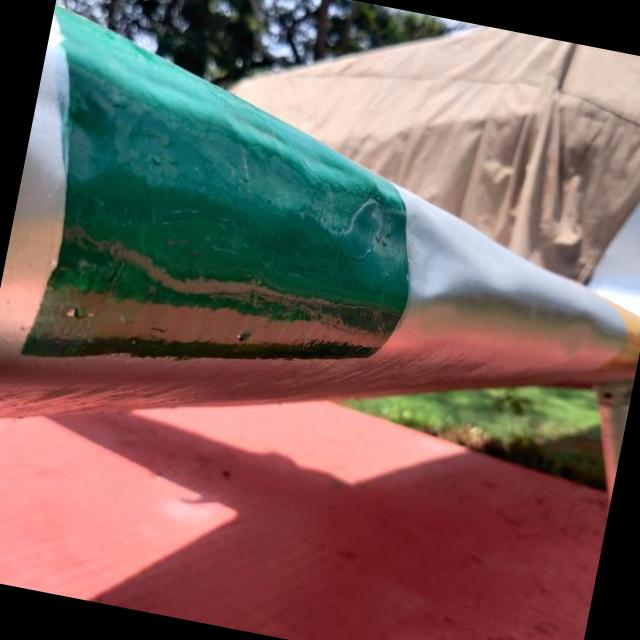Dent: (65, 53, 209, 193), (398, 187, 513, 310)
